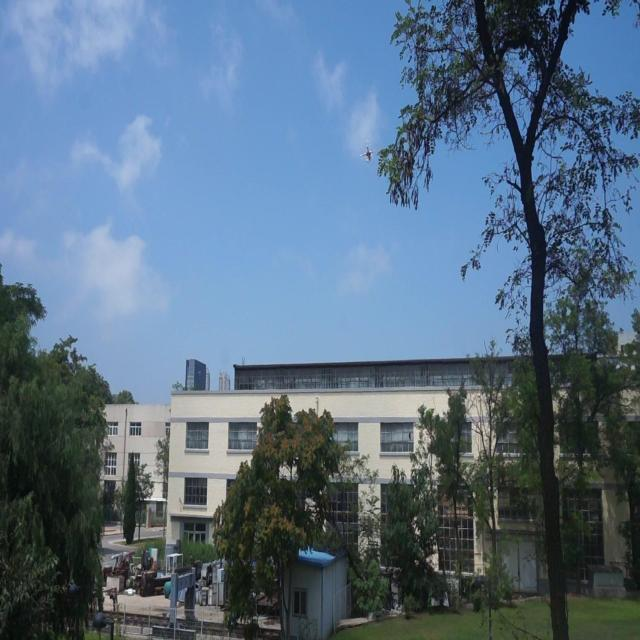drone: (359, 138, 376, 164)
